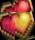heart: (0, 12, 15, 40), (15, 0, 35, 12), (0, 0, 15, 12)
